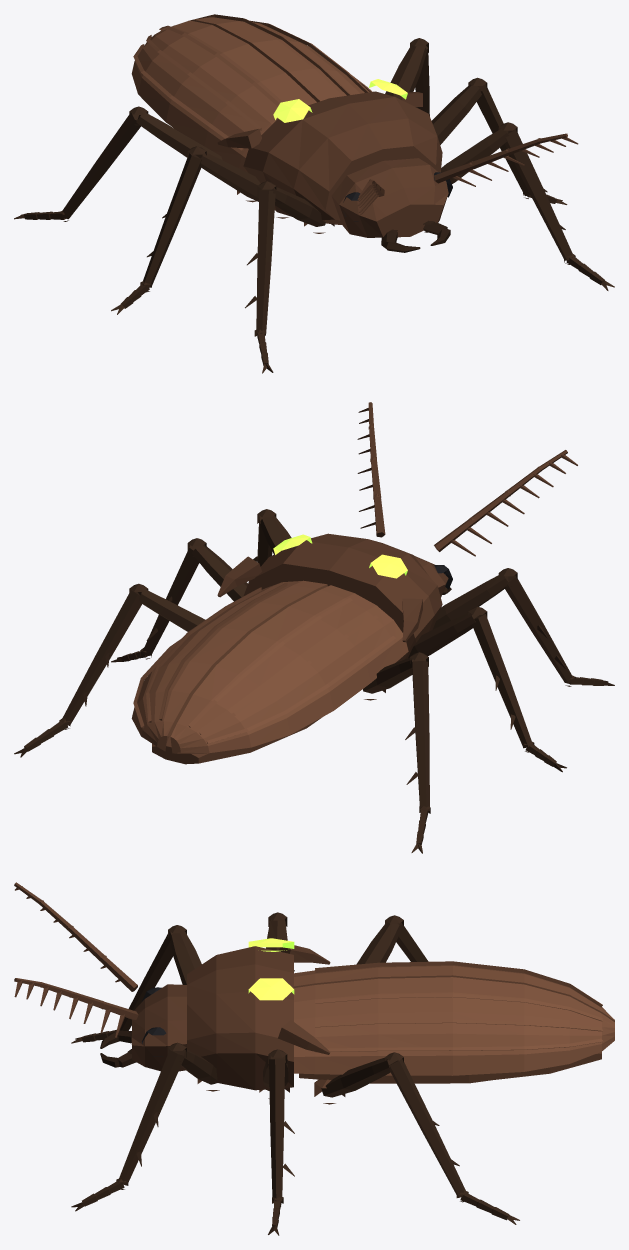
File: coordinator.glb
3 views of the same model, one above another, from view 1: azimuth 30°, elevation 25°; view 2: azimuth 150°, elevation 25°; view 3: azimuth 270°, elevation 25° (orthographic).
Parts seen in each view (by area): view 1: BeetlePlate_01, ThoraxCore, HeadBase001, BeetlePlate_00, Tibia001, Tibia003, Tibia000, Tibia005, Femur003, Femur002, Femur005, Femur004 (+5 smaller); view 2: BeetlePlate_01, ThoraxCore, BeetlePlate_00, Tibia005, Tibia004, Tibia003, Tibia001, Femur001, Tibia002, Femur003, BeetleBodyInner, Femur004 (+5 smaller); view 3: BeetlePlate_00, ThoraxCore, BeetlePlate_01, HeadBase001, Tibia004, Tibia000, Tibia002, BeetleBodyInner, Femur004, coord_lamp, Tibia001, Femur005 (+4 smaller).
Boxes of the visible parts, left/top/right/bottom form: BeetlePlate_01: left=131, top=20, right=316, bottom=171; ThoraxCore: left=217, top=91, right=442, bottom=224; HeadBase001: left=331, top=158, right=448, bottom=237; BeetlePlate_00: left=190, top=14, right=372, bottom=102; Tibia001: left=245, top=190, right=275, bottom=334; Tibia003: left=142, top=152, right=201, bottom=287; Tibia000: left=505, top=129, right=572, bottom=260; Tibia005: left=61, top=112, right=140, bottom=219; Femur003: left=195, top=152, right=260, bottom=201; Femur002: left=431, top=84, right=481, bottom=144; Femur005: left=136, top=113, right=222, bottom=159; Femur004: left=385, top=44, right=426, bottom=99; BeetlePlate_01: left=170, top=585, right=408, bottom=753; ThoraxCore: left=217, top=533, right=442, bottom=662; BeetlePlate_00: left=131, top=580, right=327, bottom=751; Tibia005: left=405, top=661, right=429, bottom=811; Tibia004: left=62, top=590, right=142, bottom=725; Tibia003: left=472, top=613, right=532, bottom=748; Tibia001: left=505, top=575, right=573, bottom=683; Femur001: left=433, top=574, right=509, bottom=629; Tibia002: left=142, top=545, right=199, bottom=656; Femur003: left=408, top=613, right=478, bottom=657; BeetleBodyInner: left=152, top=717, right=322, bottom=764; Femur004: left=138, top=590, right=205, bottom=631; BeetlePlate_00: left=294, top=977, right=614, bottom=1075; ThoraxCore: left=187, top=945, right=330, bottom=1090; BeetlePlate_01: left=294, top=961, right=614, bottom=1021; HeadBase001: left=132, top=984, right=186, bottom=1071; Tibia004: left=389, top=1059, right=465, bottom=1197; Tibia000: left=118, top=1049, right=185, bottom=1185; Tibia002: left=269, top=1059, right=294, bottom=1201; BeetleBodyInner: left=299, top=1051, right=601, bottom=1083; Femur004: left=321, top=1057, right=396, bottom=1097; coord_lamp: left=248, top=938, right=294, bottom=1000; Tibia001: left=120, top=931, right=173, bottom=1030; Femur005: left=356, top=922, right=400, bottom=964.
Size of the model in its own units: 3.22 by 1.33 by 3.71.
